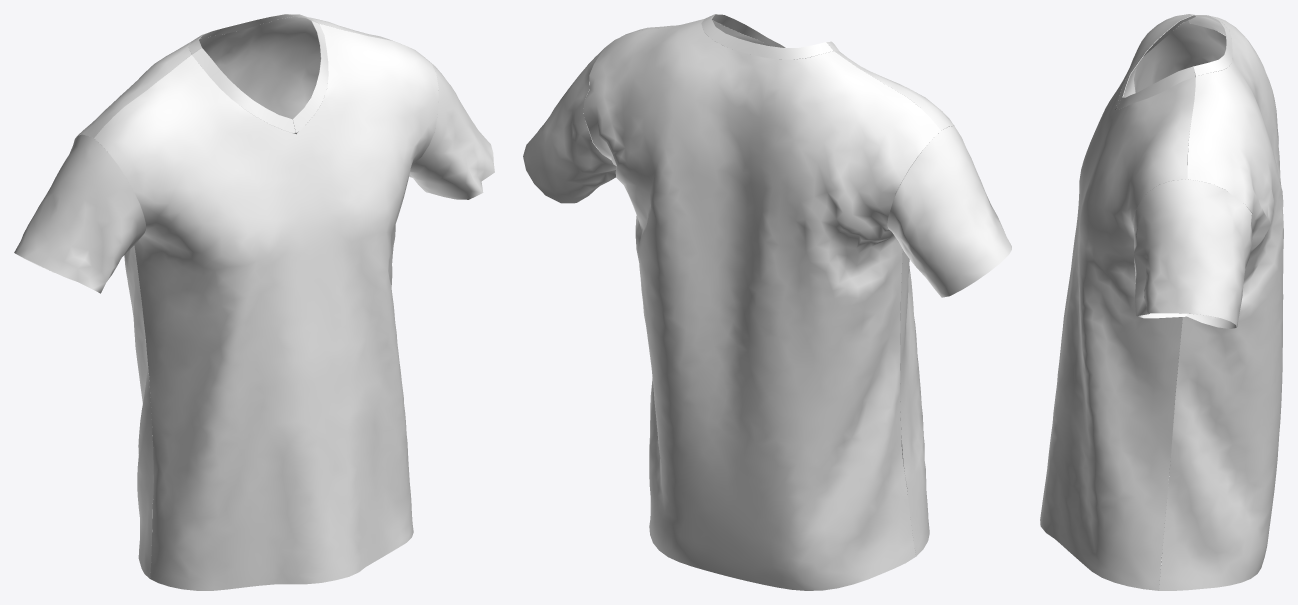
File: aonam01-1.glb
3 renders of one model, left to right at view 1: azimuth 30°, elevation 25°; view 2: azimuth 150°, elevation 25°; view 3: azimuth 270°, elevation 25°, orthographic. The views are drawn at different scales.
Parts seen in each view (by area): view 1: 40_Node, 8_Node, 61_Node, 36_Node, Pattern2D_3805017_Node, Pattern2D_768516_Node, Pattern2D_3805002_Node; view 2: 8_Node, 61_Node, 40_Node, 36_Node, Pattern2D_3805002_Node, Pattern2D_768516_Node; view 3: 40_Node, 8_Node, 36_Node, 61_Node, Pattern2D_768516_Node, Pattern2D_3805002_Node, Pattern2D_3805017_Node.
Boxes of the visible parts, x1,y1,x2,y2 form: 40_Node: (94, 23, 438, 590); 8_Node: (74, 17, 423, 578); 61_Node: (14, 134, 145, 293); 36_Node: (409, 59, 494, 199); Pattern2D_3805017_Node: (192, 48, 295, 133); Pattern2D_768516_Node: (293, 20, 328, 133); Pattern2D_3805002_Node: (188, 14, 318, 54); 8_Node: (583, 19, 940, 590); 61_Node: (887, 126, 1011, 297); 40_Node: (621, 20, 954, 556); 36_Node: (523, 48, 616, 203); Pattern2D_3805002_Node: (701, 14, 833, 59); Pattern2D_768516_Node: (712, 14, 785, 47); 40_Node: (1040, 14, 1195, 590); 8_Node: (1159, 14, 1283, 590); 36_Node: (1133, 179, 1252, 328); 61_Node: (1134, 23, 1226, 144); Pattern2D_768516_Node: (1116, 66, 1195, 109); Pattern2D_3805002_Node: (1193, 15, 1232, 76); Pattern2D_3805017_Node: (1116, 15, 1195, 108).
Size of the model in its own units: 0.2528 by 0.2668 by 0.117.
1 material, 1 textured.
